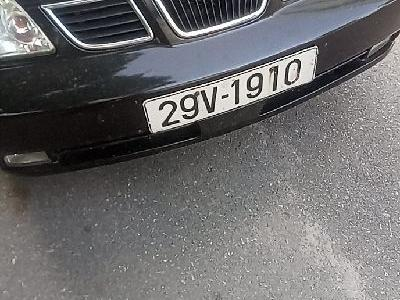number: (144, 46, 312, 133)
